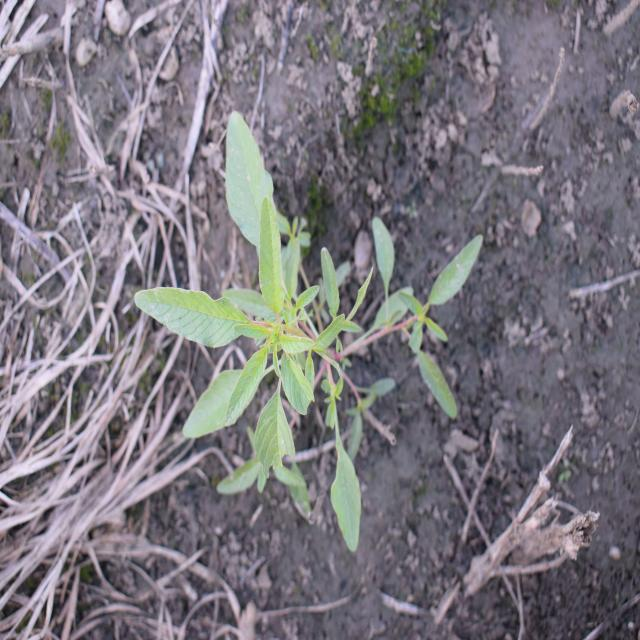Waterhemp: (133, 107, 485, 555)
